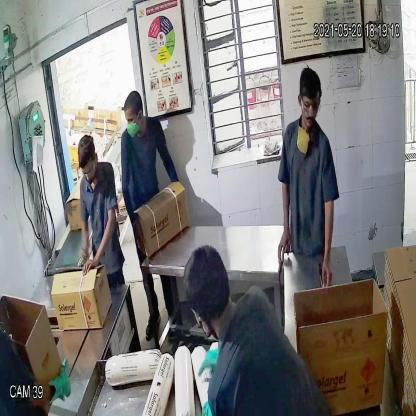goggles: (297, 95, 322, 116)
no_goggles: (125, 111, 142, 126)
